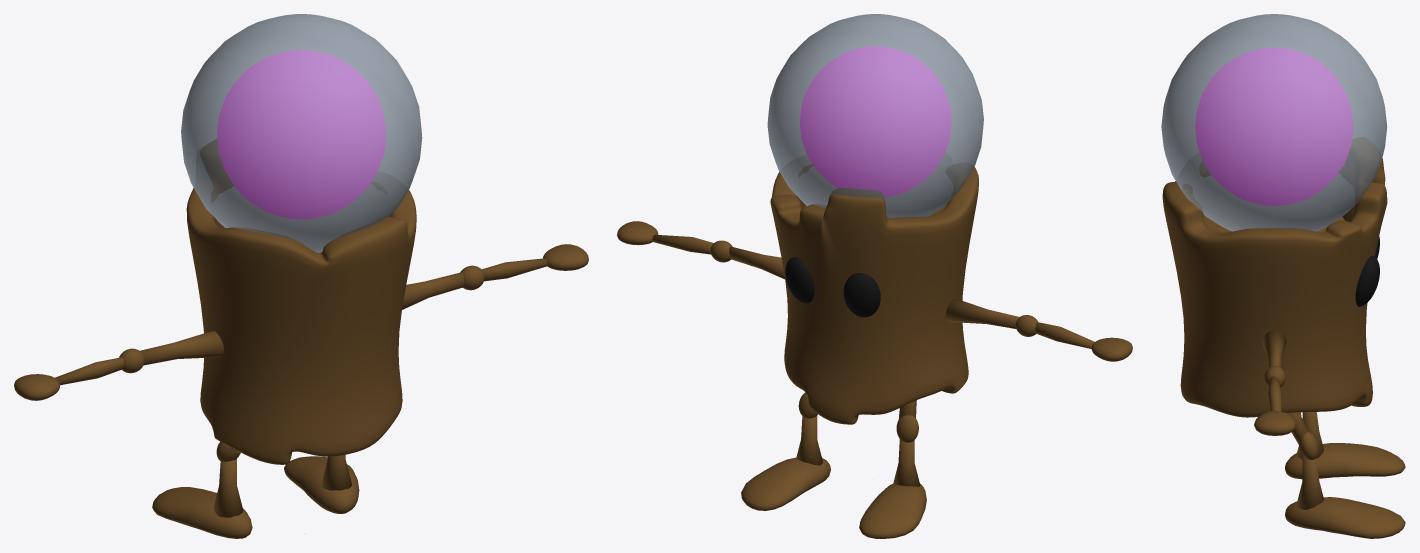
The model's file is Creep v2.fbx.
The picture shows the model from 3 angles, left to right: view 1: azimuth 30°, elevation 25°; view 2: azimuth 150°, elevation 25°; view 3: azimuth 270°, elevation 25°; orthographic projection. The views are drawn at different scales.
Visible parts, largest first — view 1: CREEP.001, Resource, Resource.001, Foot.006, bicep.001, Calf, Palm, forearm, Elbow; view 2: CREEP.001, Resource, Resource.001, Foot.006, Eye, bicep.001, Calf, Palm, forearm, Knee, Elbow; view 3: Resource, CREEP.001, Resource.001, Foot.006, Calf, Eye, Palm, bicep.001, Knee, forearm, Thigh, Elbow.
Part boxes in pixels (x1,y1,x2,y2): CREEP.001: (186,139,416,464); Resource: (181,14,422,252); Resource.001: (217,50,385,218); Foot.006: (152,456,359,538); bicep.001: (140,272,464,365); Calf: (213,454,351,517); Palm: (14,244,588,400); forearm: (55,258,547,385); Elbow: (119,265,484,373); CREEP.001: (770,164,978,424); Resource: (767,14,983,218); Resource.001: (800,46,951,197); Foot.006: (741,457,926,538); Eye: (785,257,880,317); bicep.001: (729,246,1019,328); Calf: (796,416,920,486); Palm: (617,221,1132,361); forearm: (652,234,1094,348); Knee: (798,392,918,442); Elbow: (710,240,1037,336); Resource: (1161,14,1387,231); CREEP.001: (1162,137,1387,417); Resource.001: (1195,48,1353,205); Foot.006: (1285,443,1405,538); Calf: (1296,412,1323,509); Eye: (1355,236,1379,306); Palm: (1254,411,1296,435); bicep.001: (1262,330,1286,367); Knee: (1298,431,1318,459); forearm: (1268,376,1281,411); Thigh: (1287,412,1308,443); Elbow: (1264,365,1285,387).
Size of the model in its own units: 154 by 132 by 61.62.
